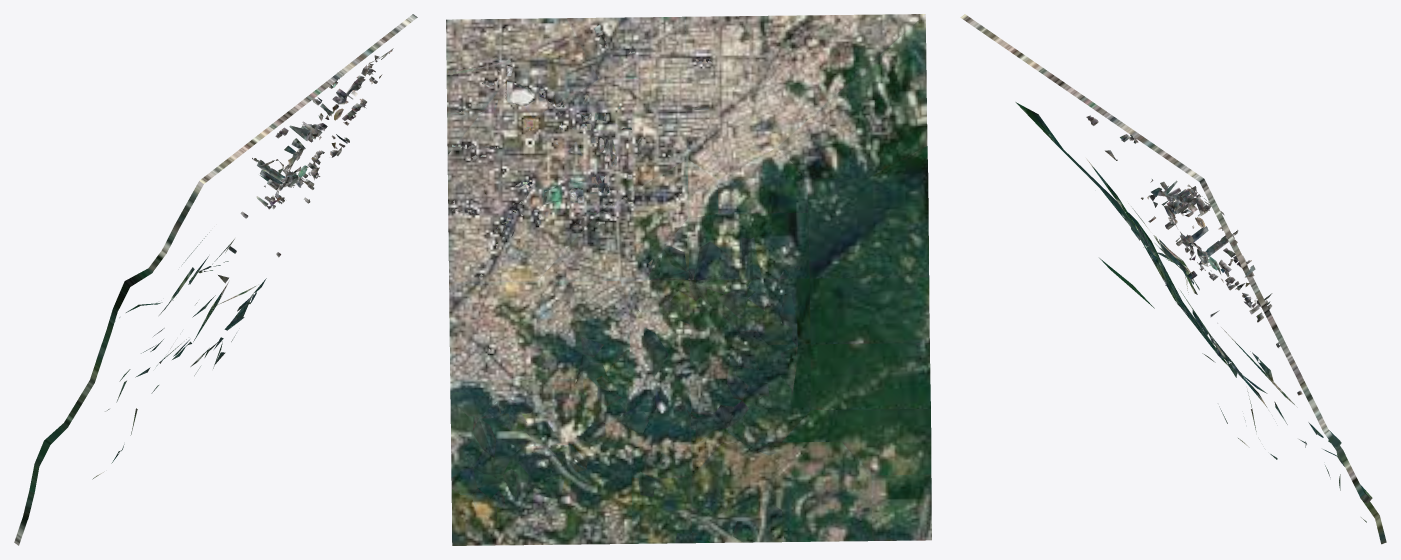
3 renders of one model, left to right at view 1: azimuth 30°, elevation 25°; view 2: azimuth 150°, elevation 25°; view 3: azimuth 270°, elevation 25°, orthographic. The views are drawn at different scales.
Bounding box in the file's own units: 4904 × 4436 × 4145.
1 material, 1 textured.
